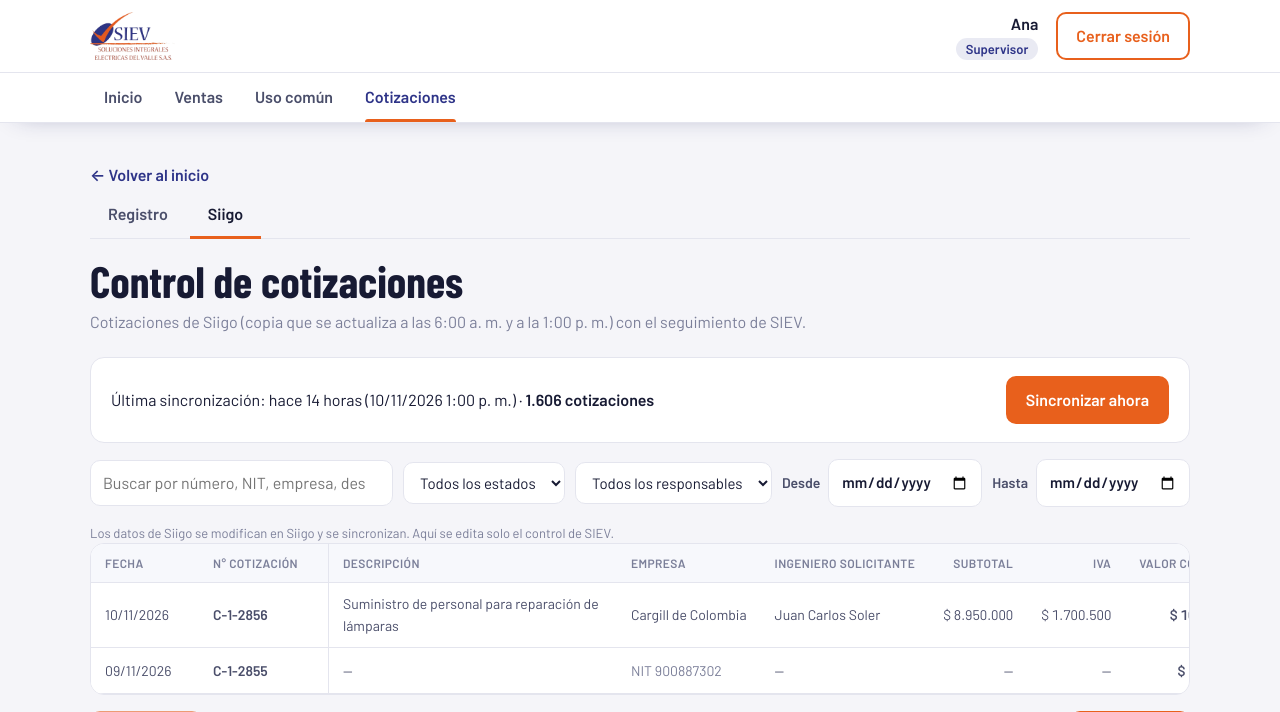
Test case: detalle › muestra los datos de Siigo, los ítems y el enlace
The width and height of the screenshot is (1280, 712).
Click the text "C-1-2856" at (240, 615), box [213, 606, 268, 623]
(page scrolled)
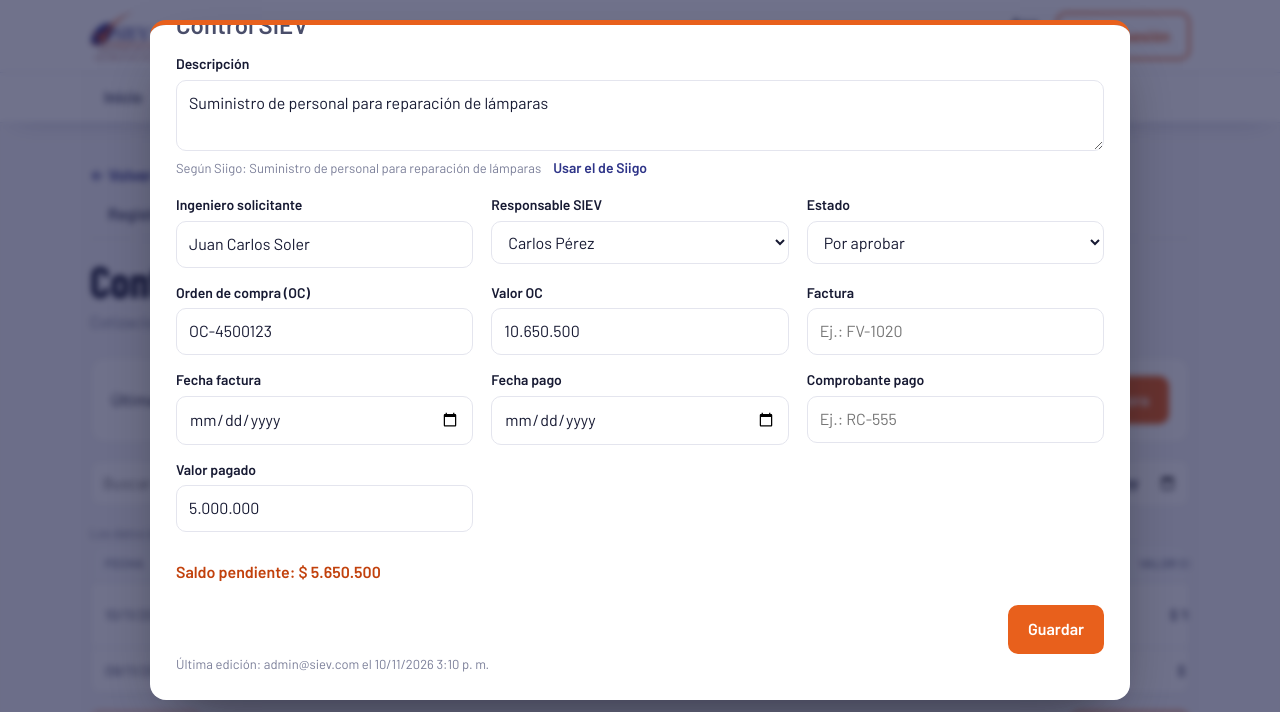
Result: the text "Saldo pendiente: $ 5.650.500" is shown at [176, 562, 381, 581]
Result: the text "Última edición: admin@siev.com el 10/11/2026 3:10 p. m." is shown at [176, 656, 489, 672]
